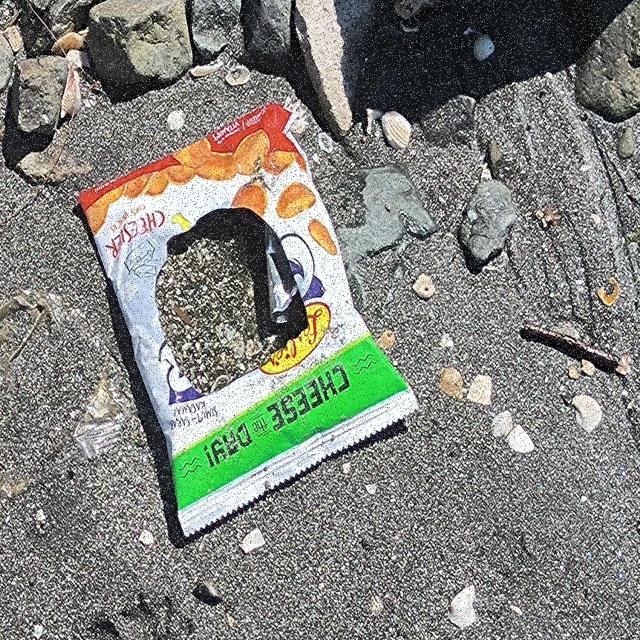plastic_waste: (77, 103, 420, 540)
